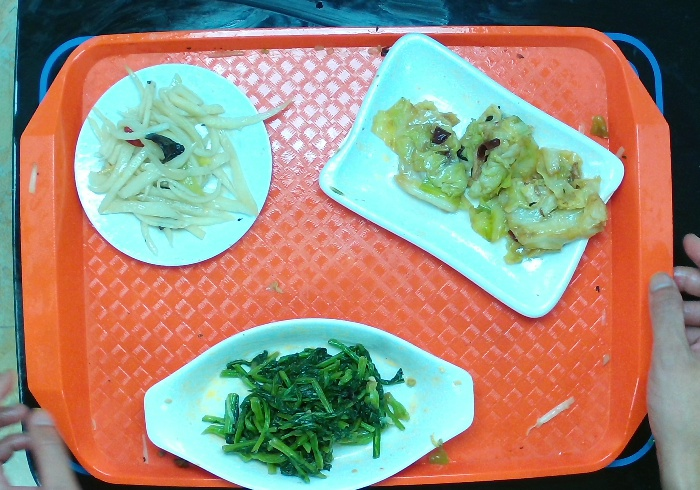RJxy-Si_Fang_Ao_Bian_Wan: (316, 29, 628, 321)
RJxy-Xiao_Yuan_Die: (68, 62, 281, 272)
RJxy-Yu_Pan: (134, 312, 483, 487)
